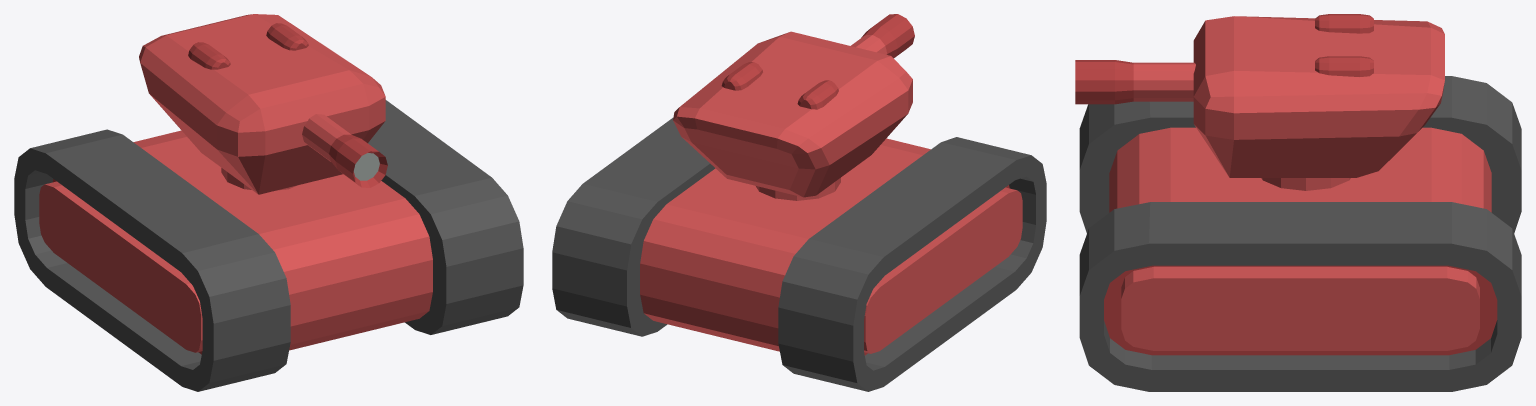
Rendered from Tank2.enemy.fbx.
The picture shows the model from 3 angles, left to right: view 1: azimuth 30°, elevation 25°; view 2: azimuth 150°, elevation 25°; view 3: azimuth 270°, elevation 25°; orthographic projection. The views are drawn at different scales.
Visible parts, largest first — view 1: Tank2.enemy, rank2.enemy.turrent; view 2: Tank2.enemy, rank2.enemy.turrent; view 3: Tank2.enemy, rank2.enemy.turrent.
Part boxes in pixels (x1,y1,x2,y2): Tank2.enemy: (14,100,523,391); rank2.enemy.turrent: (139,14,387,194); Tank2.enemy: (552,118,1046,391); rank2.enemy.turrent: (673,14,914,200); Tank2.enemy: (1079,76,1521,391); rank2.enemy.turrent: (1075,14,1444,190).
Bounding box in the file's own units: 2.6 × 1.96 × 2.92.
